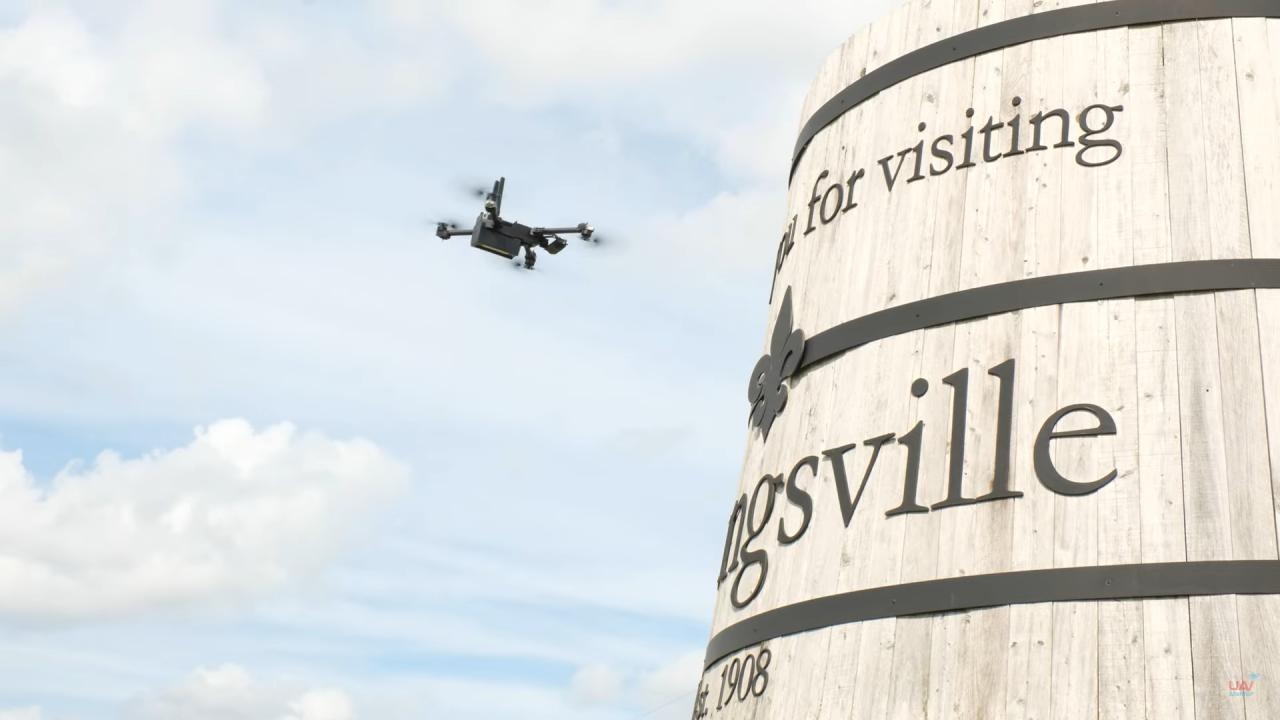Drone: (425, 164, 611, 280)
